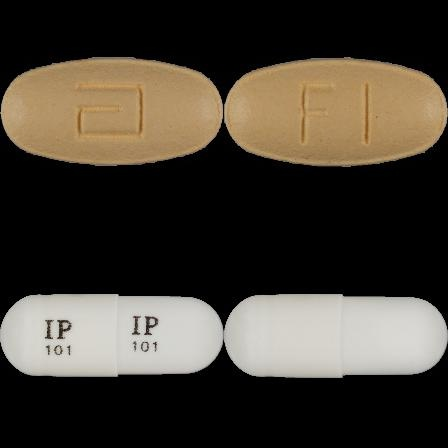54868-5224: (0, 0, 224, 224)
